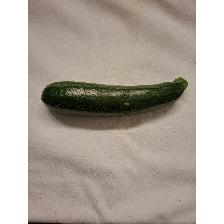Zucchini: (40, 73, 190, 119)
